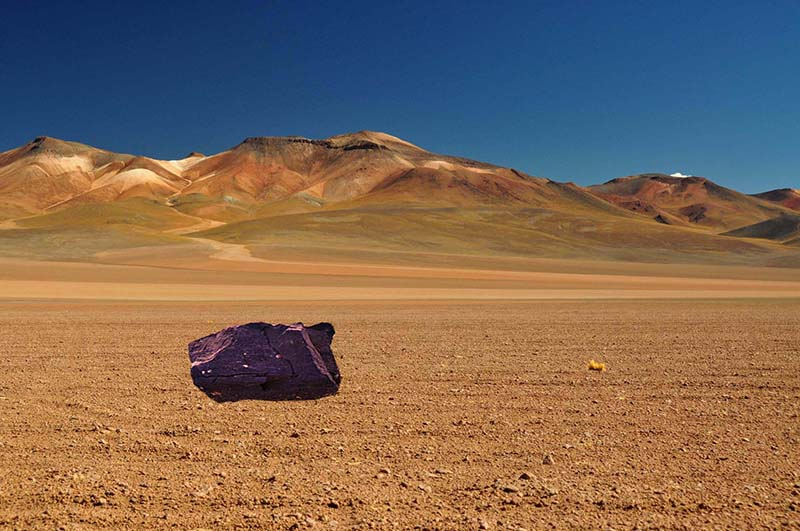Rocks: (178, 318, 358, 411)
